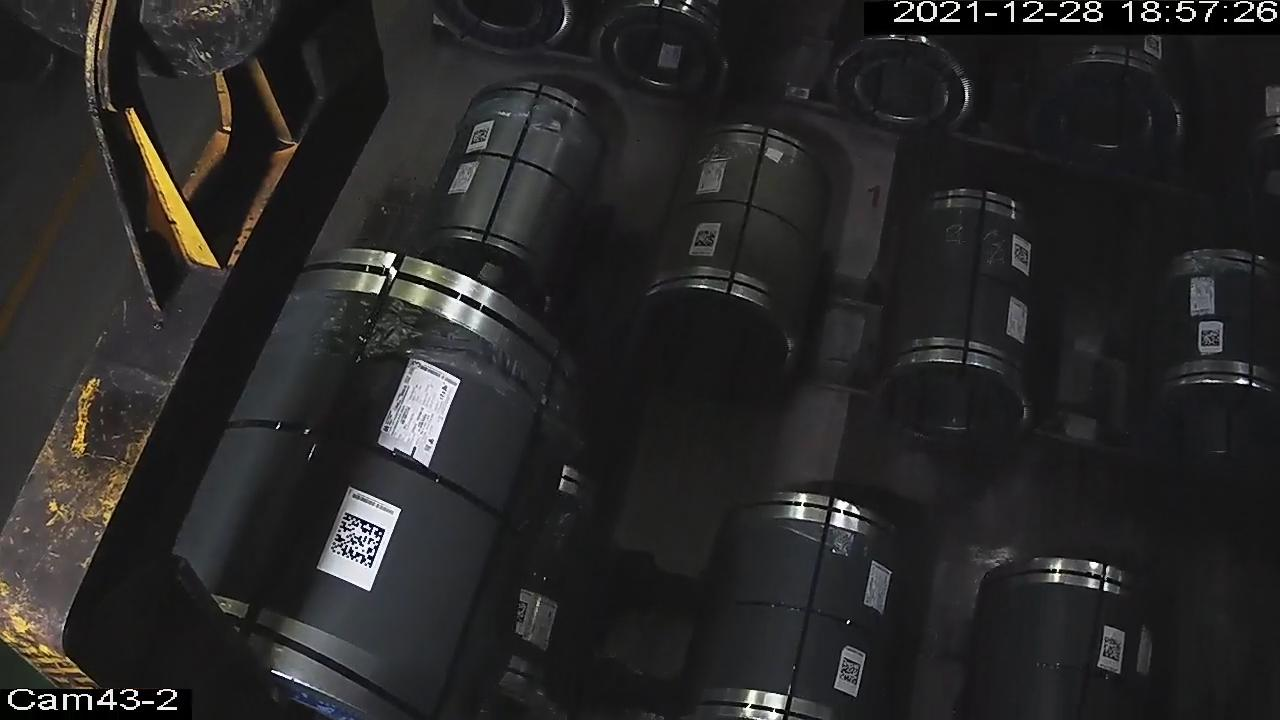data matrix: (327, 510, 388, 572), (837, 656, 865, 687), (1101, 636, 1125, 664), (693, 228, 719, 250), (1200, 328, 1224, 351), (1013, 242, 1031, 269), (469, 126, 492, 147)
